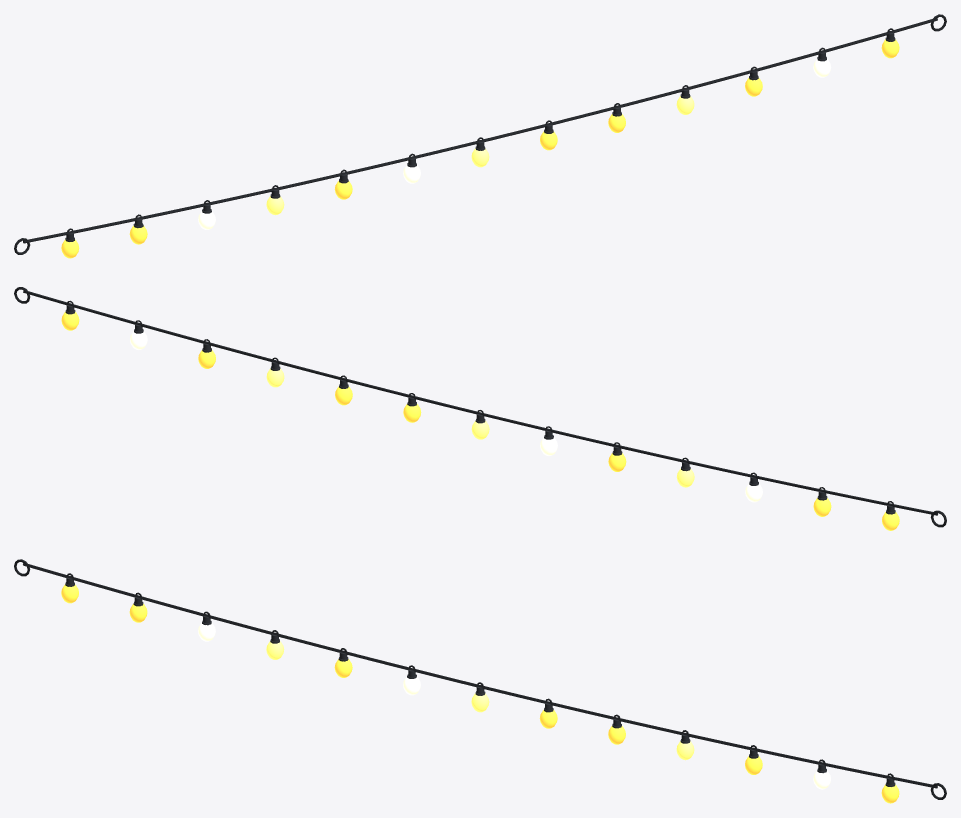
Rendered from truck_string_lights.glb.
The picture shows the model from 3 angles, top to bottom: view 1: azimuth 30°, elevation 25°; view 2: azimuth 150°, elevation 25°; view 3: azimuth 330°, elevation 25°; orthographic projection.
Visible parts, largest first — view 1: TruckStringLights; view 2: TruckStringLights; view 3: TruckStringLights.
Boxes of the visible parts, x1,y1,x2,y2 form: TruckStringLights: (14,14,946,258); TruckStringLights: (14,287,946,530); TruckStringLights: (14,559,946,803).
Bounding box in the file's own units: 30.02 × 1.24 × 0.5.
